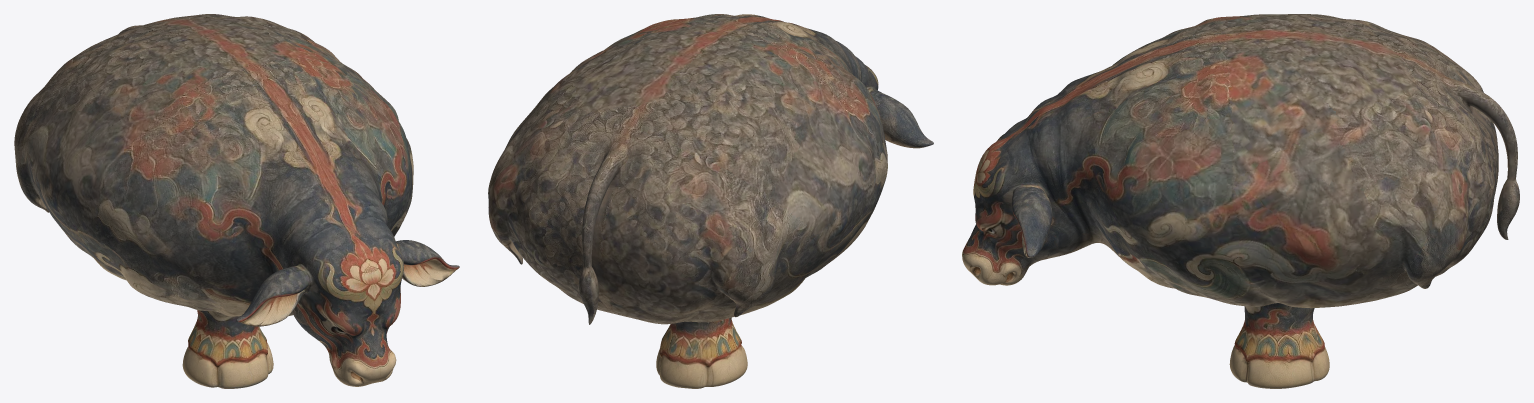
File: kui.glb
3 views of the same model, side by side, from view 1: azimuth 30°, elevation 25°; view 2: azimuth 150°, elevation 25°; view 3: azimuth 270°, elevation 25° (orthographic). The views are drawn at different scales.
Size of the model in its own units: 1.28 by 1.27 by 1.9.
1 material, 1 textured.
